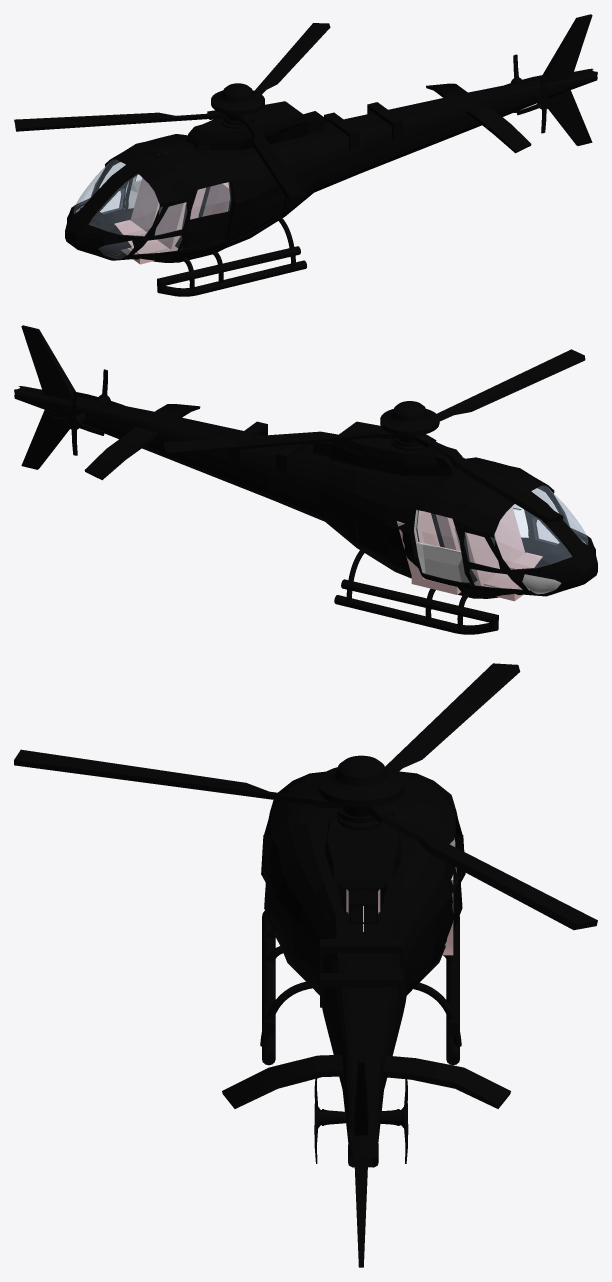
Rendered from uplo_heli.fbx.
3 views of the same model, one above another, from view 1: azimuth 30°, elevation 25°; view 2: azimuth 150°, elevation 25°; view 3: azimuth 270°, elevation 25° (orthographic). The views are drawn at different scales.
Visible parts, largest first — view 1: Box001, Object001, Line009, Line012, Cylinder001, Box002, Line010, Line002, Line011, Box011, Box010, Object012 (+10 smaller); view 2: Box001, Line014, Object018, Line011, Cylinder001, Line002, Box002, Line012, Line010, Box010, Object019, Box011 (+9 smaller); view 3: Box001, Box002, Cylinder001, Line002, Line011, Line012, Line009, Line014, Line010, Line005.
Boxes of the visible parts, x1,y1,x2,y2 form: Box001: (65, 68, 597, 262); Object001: (89, 174, 162, 236); Line009: (157, 246, 306, 296); Line012: (14, 112, 209, 131); Cylinder001: (207, 83, 264, 128); Box002: (426, 83, 531, 153); Line010: (539, 14, 592, 83); Line002: (245, 120, 305, 200); Line011: (254, 23, 330, 94); Box011: (121, 202, 192, 264); Box010: (114, 178, 159, 236); Object012: (182, 181, 232, 248); Box001: (14, 386, 597, 598); Line014: (334, 579, 498, 634); Object018: (491, 504, 571, 569); Line011: (163, 431, 379, 455); Cylinder001: (377, 401, 439, 450); Line002: (437, 349, 585, 421); Box002: (84, 404, 200, 480); Line012: (429, 441, 563, 522); Line010: (21, 325, 79, 400); Box010: (454, 528, 529, 601); Object019: (414, 509, 474, 582); Box011: (494, 506, 542, 569); Box001: (261, 771, 465, 1167); Box002: (222, 1054, 510, 1108); Cylinder001: (315, 755, 404, 830); Line002: (14, 749, 315, 805); Line011: (381, 814, 597, 930); Line012: (385, 663, 520, 772); Line009: (262, 911, 275, 1065); Line014: (446, 916, 459, 1065); Line010: (354, 1051, 368, 1135); Line005: (354, 1167, 367, 1267).
Size of the model in its own units: 10000 by 3033 by 5819.
